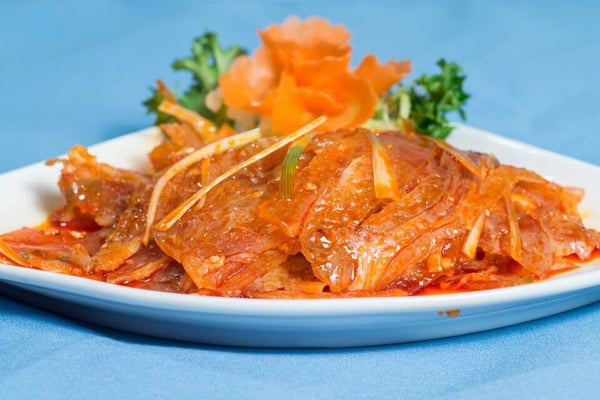pizza: (223, 16, 410, 136)
